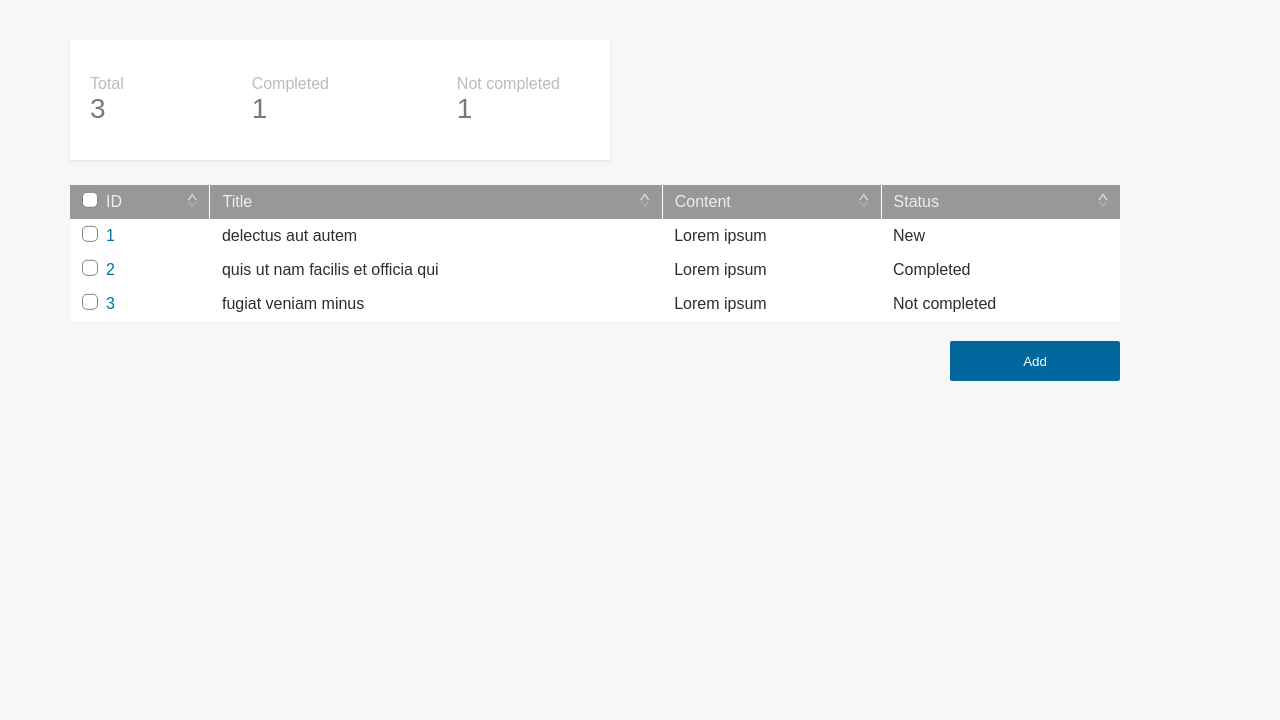
Test case: Delete Notes › Delete one note
This screenshot has width=1280, height=720.
Expected: the text "delectus aut autem" is shown, [210,219,662,253]
Click the checkbox with test id "checkbox-1".
click(90, 234)  # box [82,226,98,242]
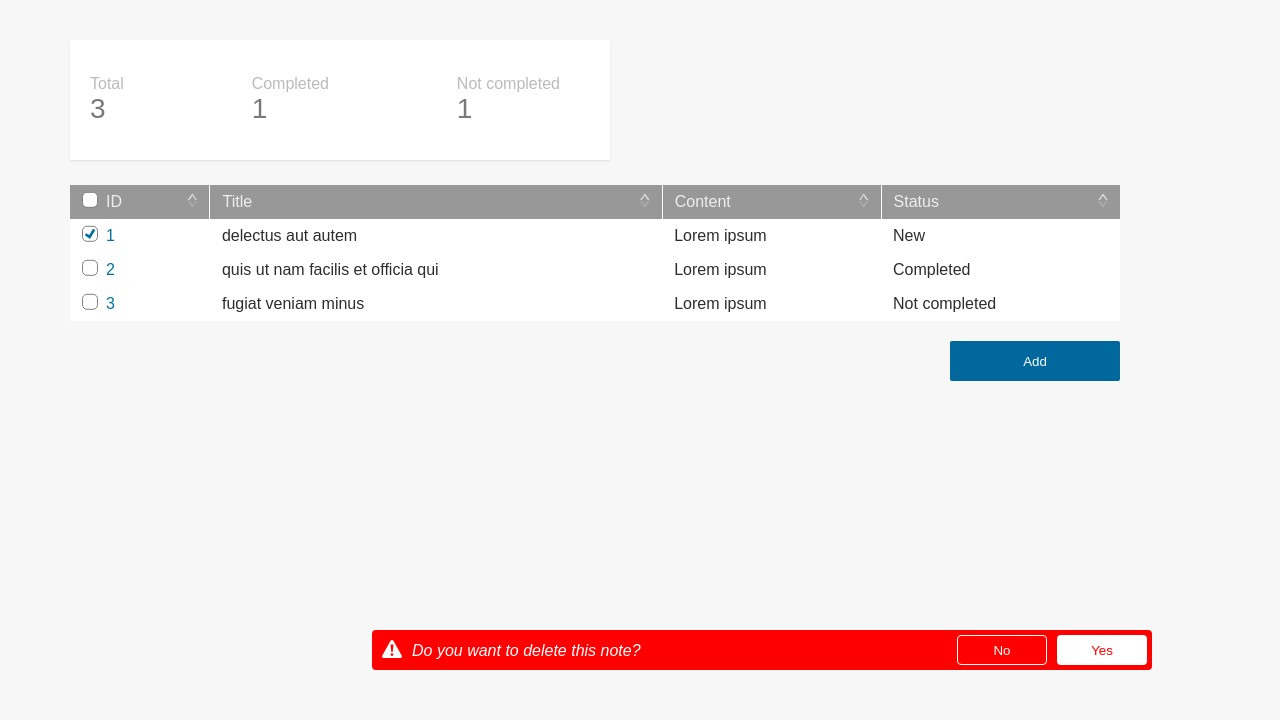
Result: the text "Do you want to delete this note?" is shown at [412,638,641,662]
Click the button with test id "yes-delete".
click(1102, 650)  # box [1057,635,1147,665]
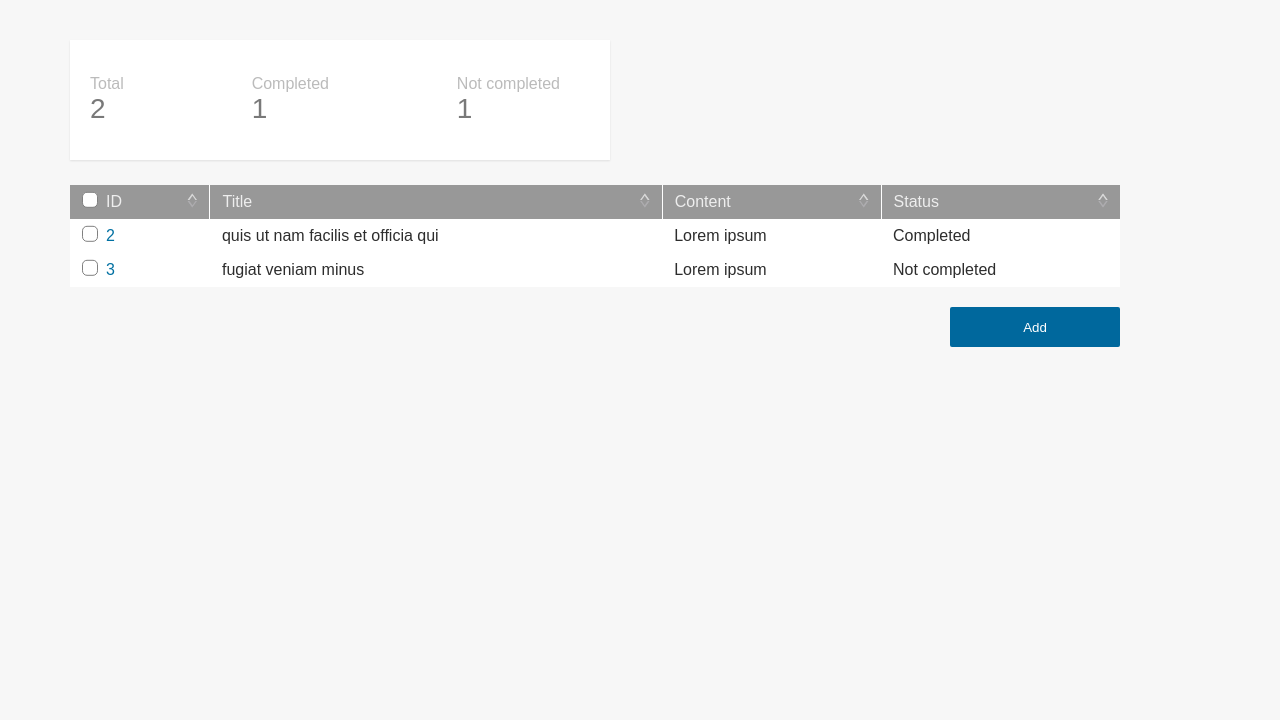
Result: the text "delectus aut autem" is gone
